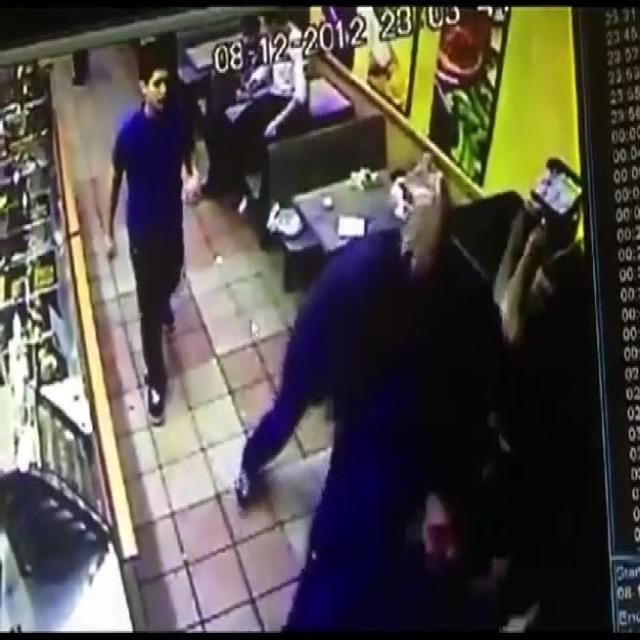fight: (236, 195, 449, 522)
